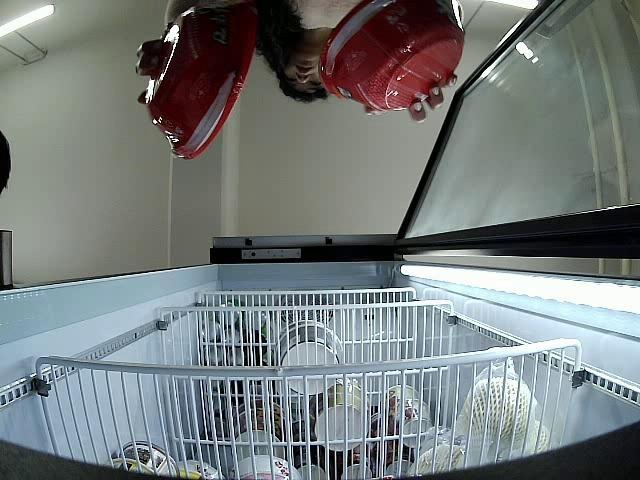10_wangTtukkeong: (146, 7, 255, 160), (321, 0, 466, 111)
